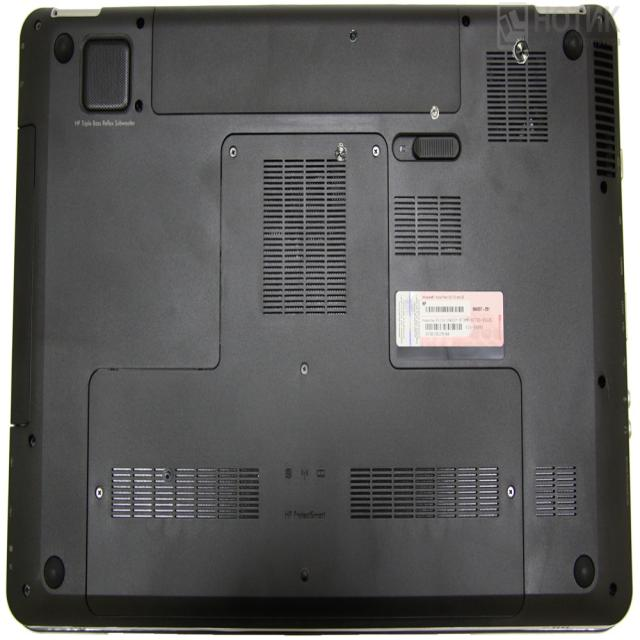lock: (512, 38, 529, 64), (334, 142, 347, 162), (430, 105, 439, 119), (349, 29, 358, 43)
missing_screw: (163, 465, 174, 483)
